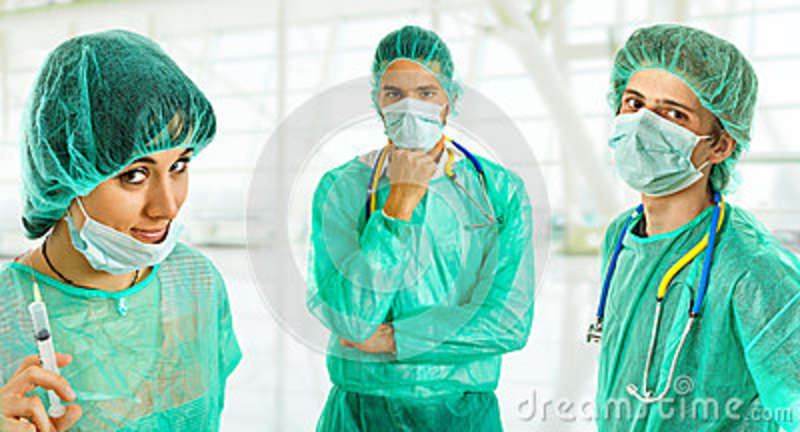mask: (600, 115, 709, 205), (78, 219, 178, 280), (380, 100, 449, 157)
